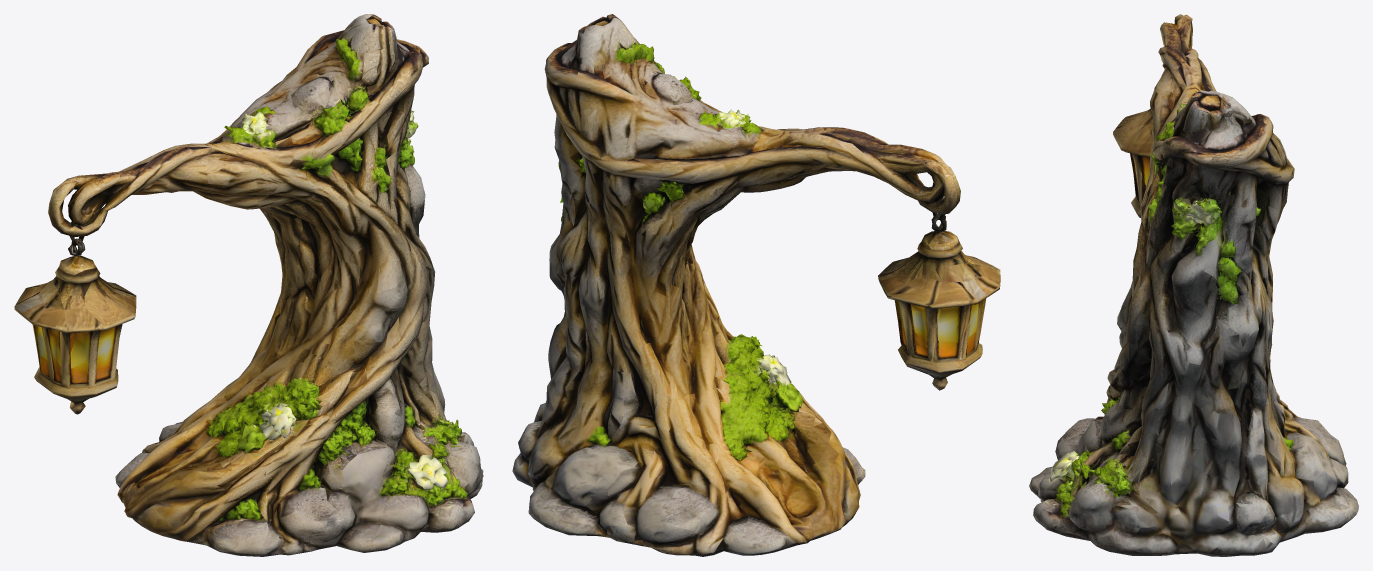
The model's file is Enchanted_Lantern_Tre.glb.
3 renders of one model, left to right at view 1: azimuth 30°, elevation 25°; view 2: azimuth 150°, elevation 25°; view 3: azimuth 270°, elevation 25°, orthographic. The views are drawn at different scales.
Visible parts, largest first — view 1: Enchanted_Lantern_Tre; view 2: Enchanted_Lantern_Tre; view 3: Enchanted_Lantern_Tre.
Boxes of the visible parts, x1,y1,x2,y2 form: Enchanted_Lantern_Tre: [14, 14, 483, 556]; Enchanted_Lantern_Tre: [512, 14, 1000, 556]; Enchanted_Lantern_Tre: [1029, 14, 1358, 556].
Size of the model in its own units: 1.9 by 1.86 by 1.28.
Materials: 1 (1 with a texture image).
